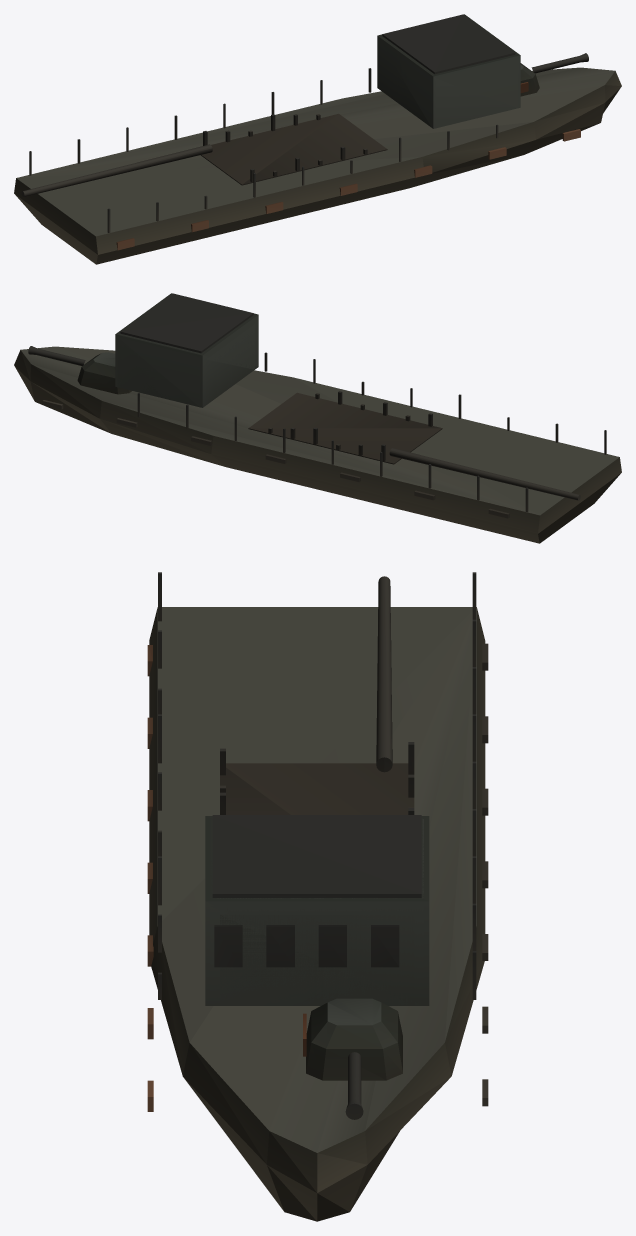
The model's file is neutral_wreck_vessel.glb.
3 renders of one model, top to bottom at view 1: azimuth 30°, elevation 25°; view 2: azimuth 150°, elevation 25°; view 3: azimuth 270°, elevation 25°, orthographic. The views are drawn at different scales.
Parts seen in each view (by area): view 1: hull (×3), turret, barrel; view 2: hull (×3), turret, barrel; view 3: hull (×3), turret, barrel.
Boxes of the visible parts, left/top/right/bottom form: hull (×3): left=14, top=14, right=621, bottom=264; turret: left=520, top=63, right=539, bottom=96; barrel: left=531, top=53, right=588, bottom=73; hull (×3): left=14, top=293, right=621, bottom=543; turret: left=77, top=352, right=131, bottom=394; barrel: left=28, top=346, right=85, bottom=365; hull (×3): left=147, top=572, right=488, bottom=1221; turret: left=303, top=998, right=402, bottom=1080; barrel: left=345, top=1052, right=363, bottom=1119.
Size of the model in its own units: 18 by 3.21 by 4.56.
